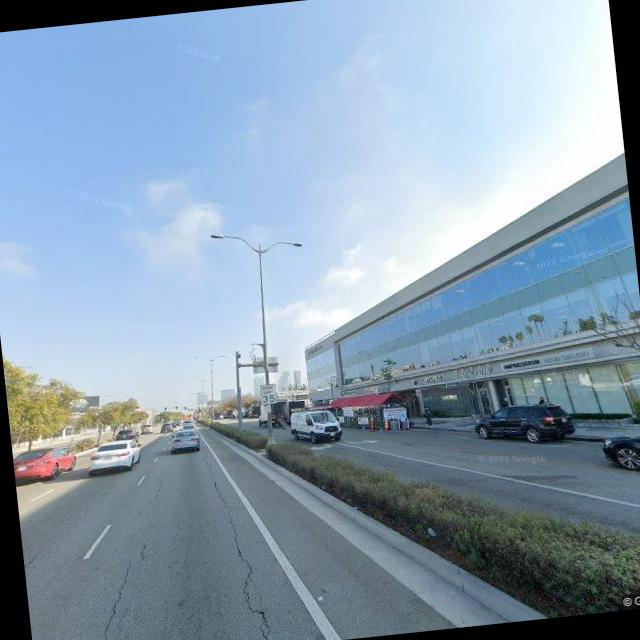pothole: (207, 458, 277, 640), (85, 533, 162, 640)
